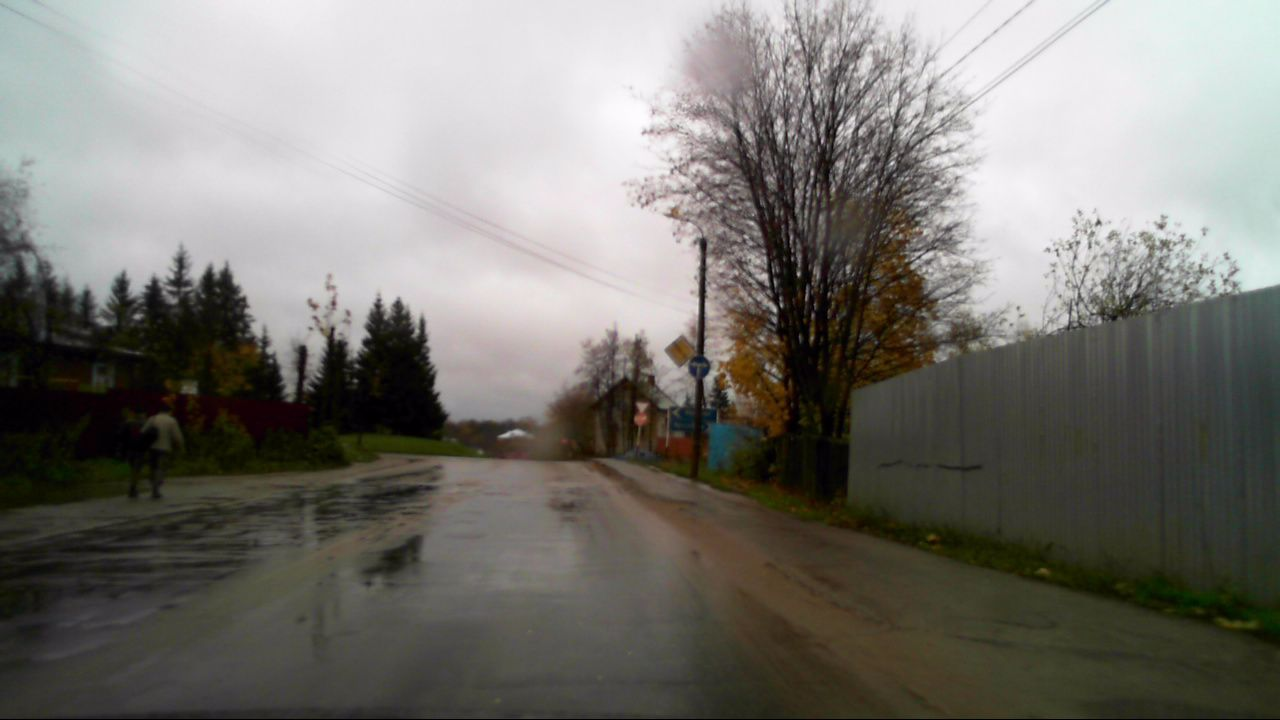main road: (664, 335, 694, 368)
